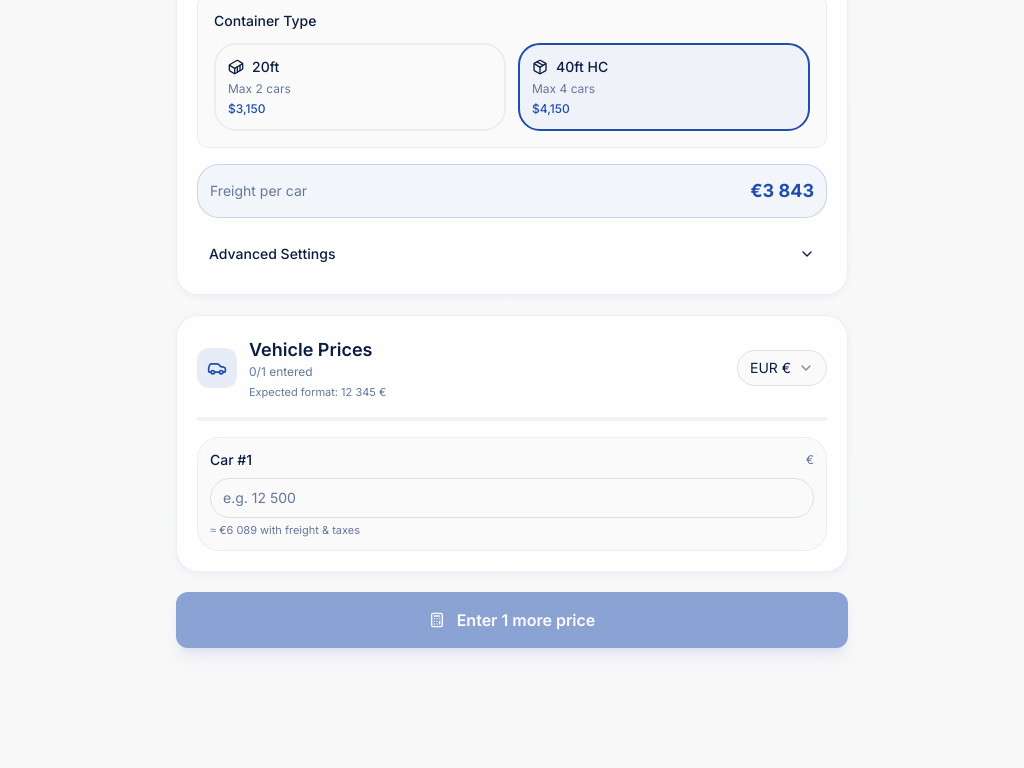
Calculator form integration › enables Calculate after car price is provided
(page scrolled)
Expected: the button "Enter 1 more price" is disabled, [176,592,848,648]
Step 1. Type "12000" into the field labelled "Car #1" → (512, 498), box [210,478,814,518]
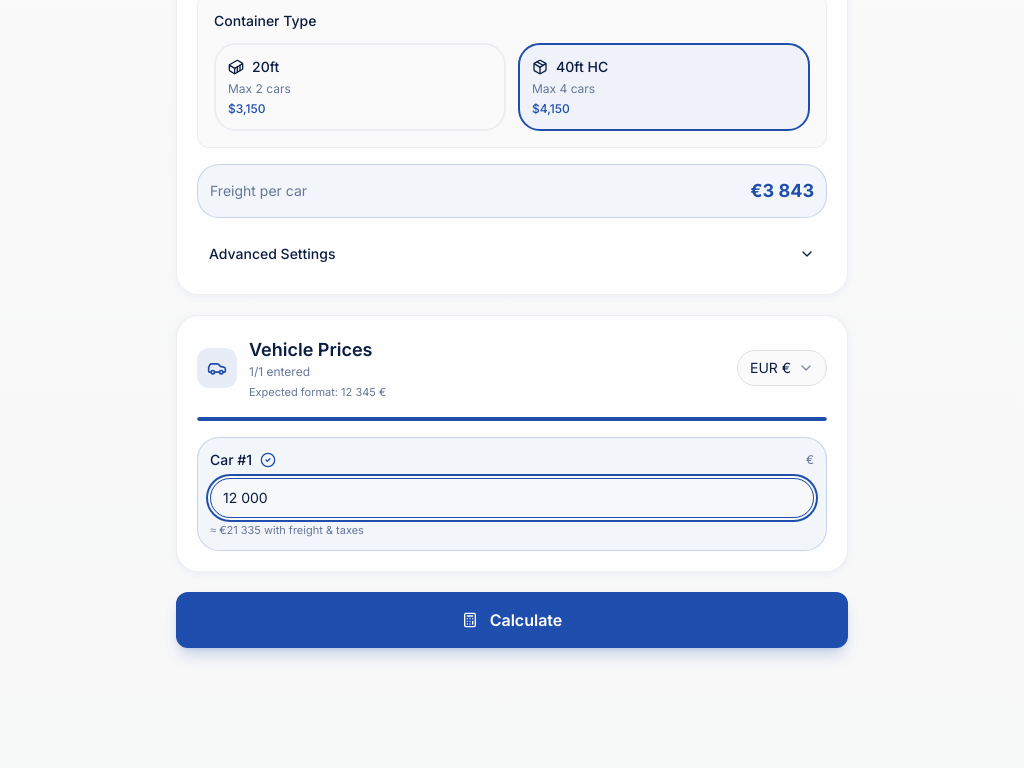
Result: the button "Calculate" is enabled
Step 2. Click the button "Calculate" → click(512, 620), box [176,592,848,648]
(page scrolled)
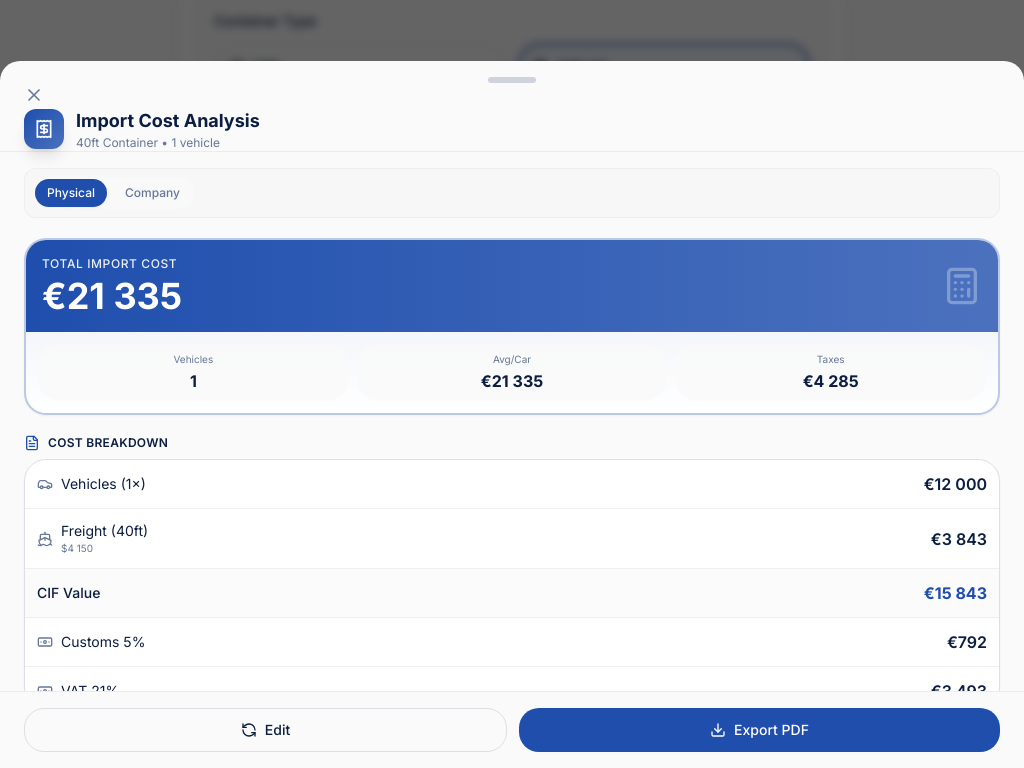
Result: the button "Export PDF" is shown at [519,708,1000,752]
